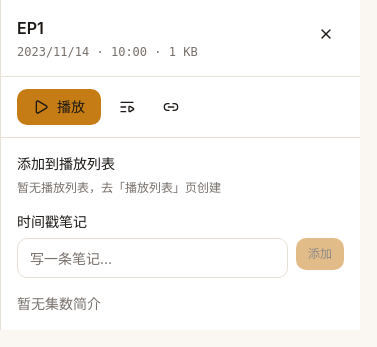
EpisodeDetailPanel chapters › copies the episode permalink
This screenshot has width=377, height=347.
Click the button named "复制链接" at (171, 107), box [153,89,189,125]
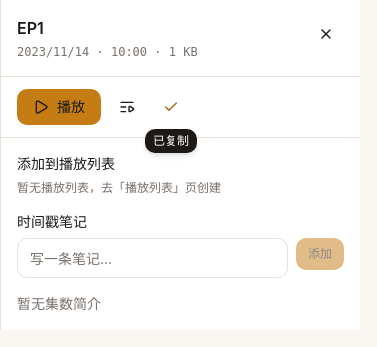
expect the message reads "已复制": met, box [153,133,189,148]
